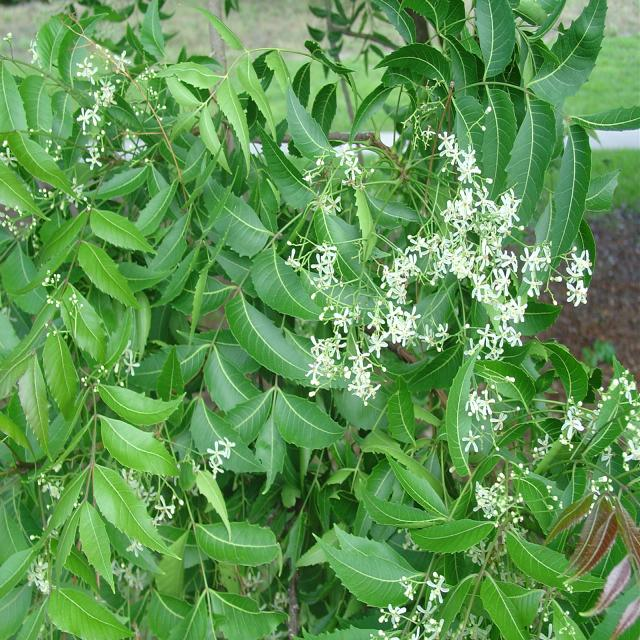Medicinal-Neem: (262, 1, 606, 631), (4, 11, 303, 613)
